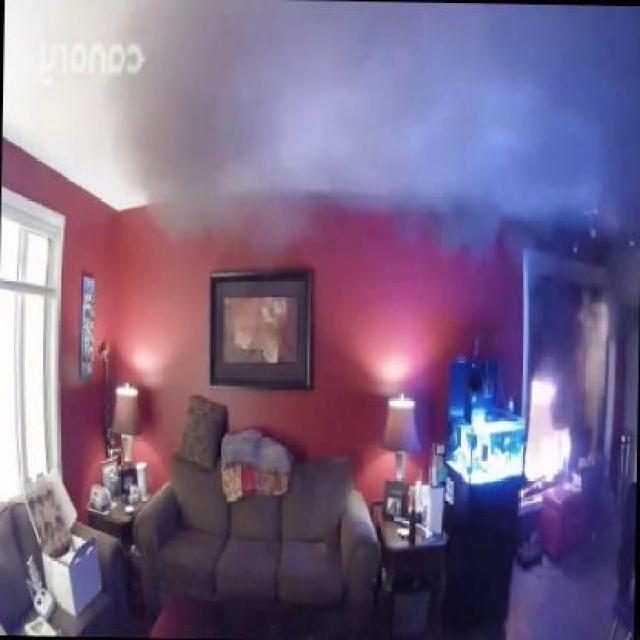smoke: (78, 8, 640, 260)
